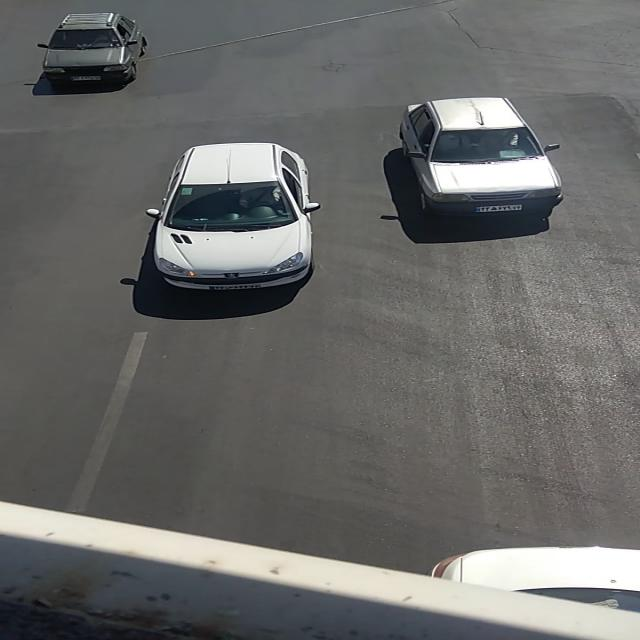car: (146, 143, 321, 293), (397, 96, 563, 214), (33, 14, 147, 86)
